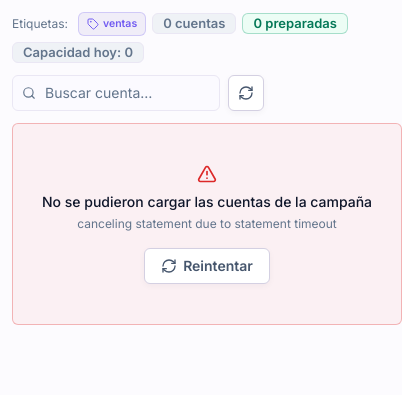
Test: CampaignEmailAccounts — cuando la consulta falla › si falla dos veces, enseña el motivo y Reintentar vuelve a cargar
The image size is (402, 395).
expect the text "No se pudieron cargar las cuentas de la campaña" is shown: met, box [29,192,385,212]
expect the text "canceling statement due to statement timeout" is shown: met, box [77,216,337,231]
Click the button "Reintentar" at (207, 266), box [144,248,270,284]
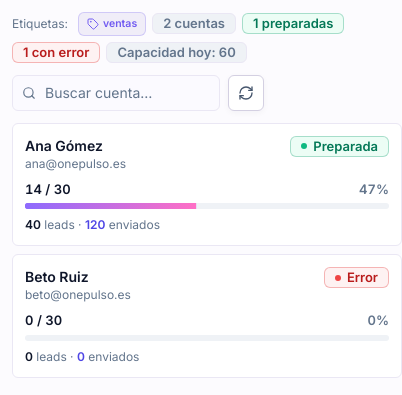
expect the text "ana@onepulso.es" is shown: met, box [25,156,126,172]
